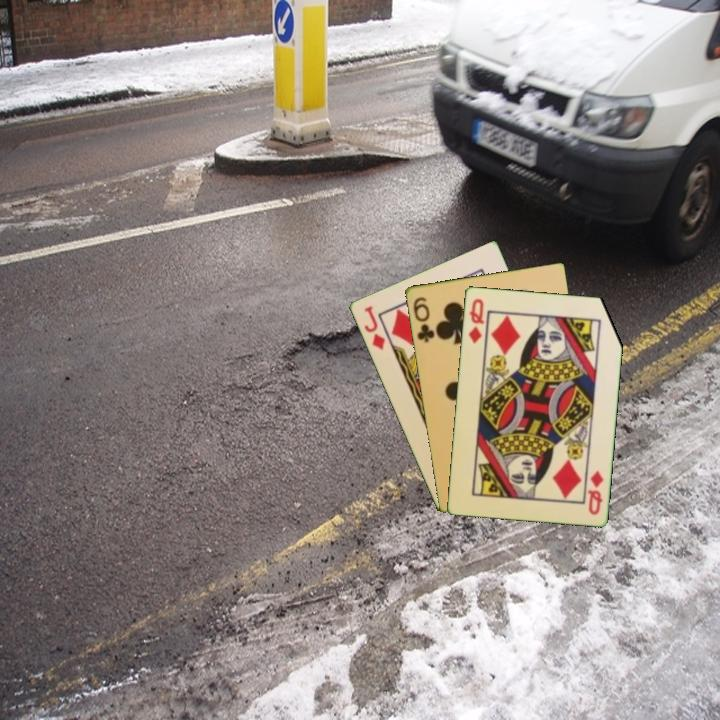6c: (409, 293, 437, 345)
Jd: (360, 302, 388, 352)
Qd: (465, 295, 487, 346), (584, 467, 606, 517)
